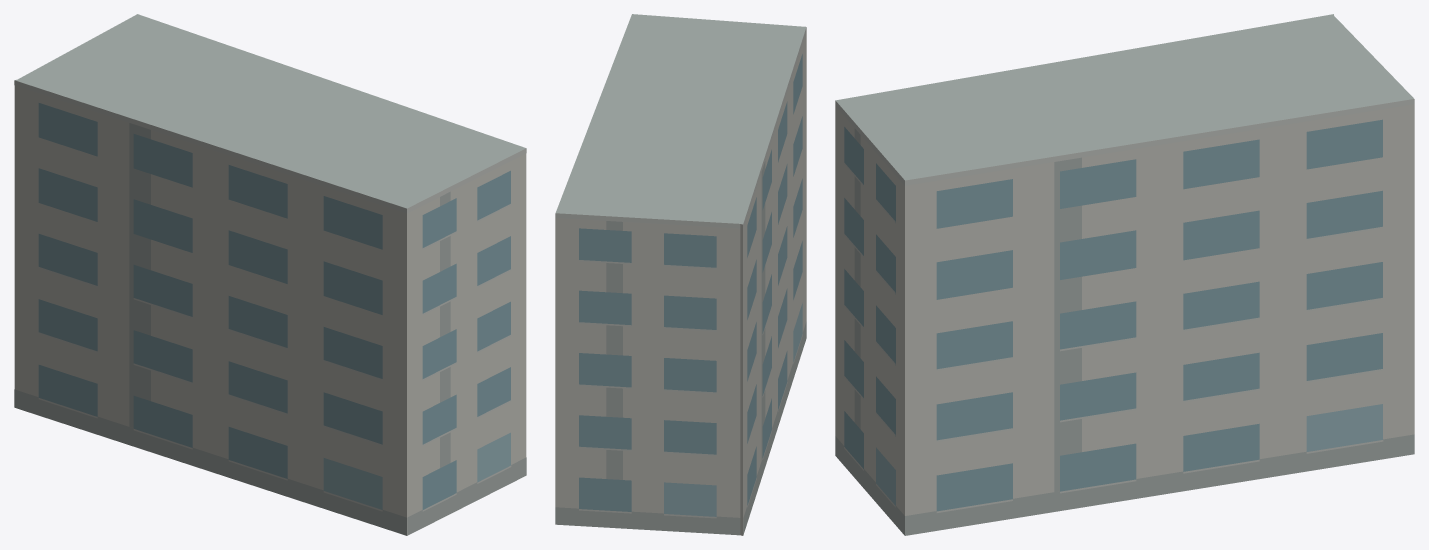
Rendered from survey-upis-32866755.glb.
3 renders of one model, left to right at view 1: azimuth 30°, elevation 25°; view 2: azimuth 150°, elevation 25°; view 3: azimuth 270°, elevation 25°, orthographic. The views are drawn at different scales.
Visible parts, largest first — view 1: survey-upis-32866755.tmp; view 2: survey-upis-32866755.tmp; view 3: survey-upis-32866755.tmp.
Part boxes in pixels (<box>): survey-upis-32866755.tmp: <box>14,14,526,535</box>; survey-upis-32866755.tmp: <box>555,14,806,535</box>; survey-upis-32866755.tmp: <box>835,14,1414,535</box>.
Bounding box in the file's own units: 16.04 × 15.95 × 23.57.
